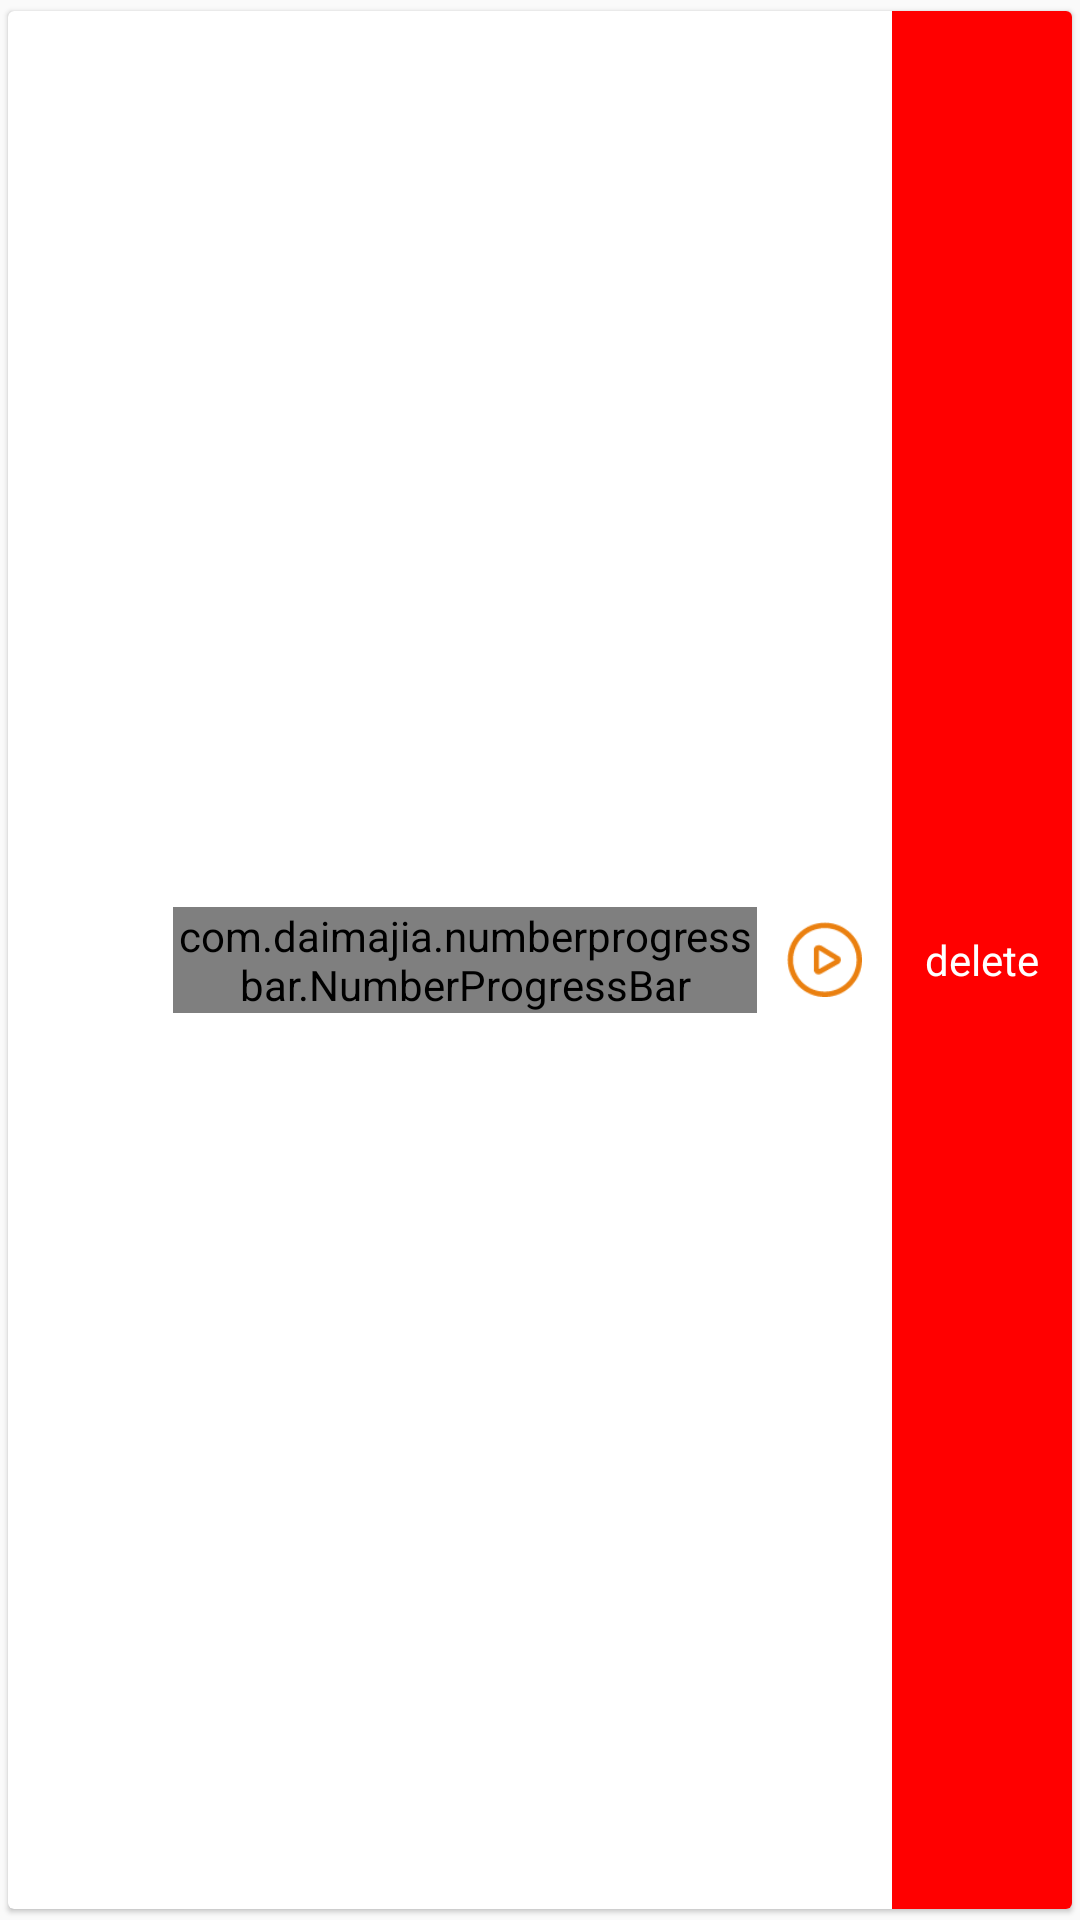

Point at icon controls on the screen. Image size 1080px x 1920px, points as (x=x, y=y).
start pause download: (x=824, y=959)
